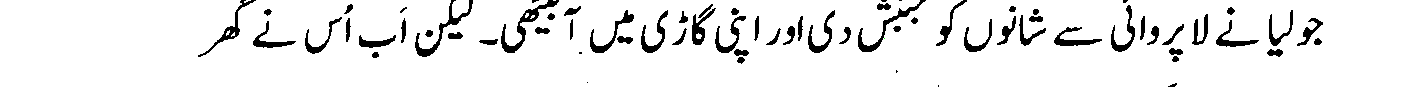bay_shosha: (357, 33, 396, 59)
